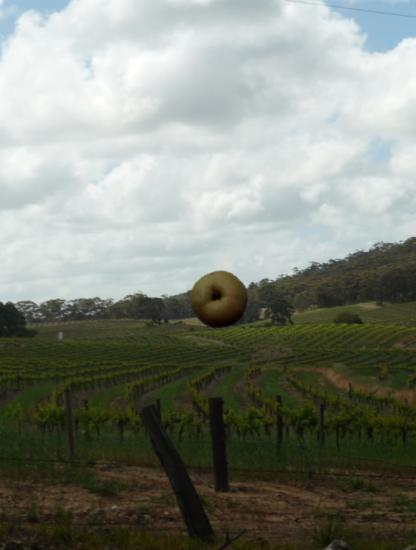Pear: (189, 269, 250, 330)
